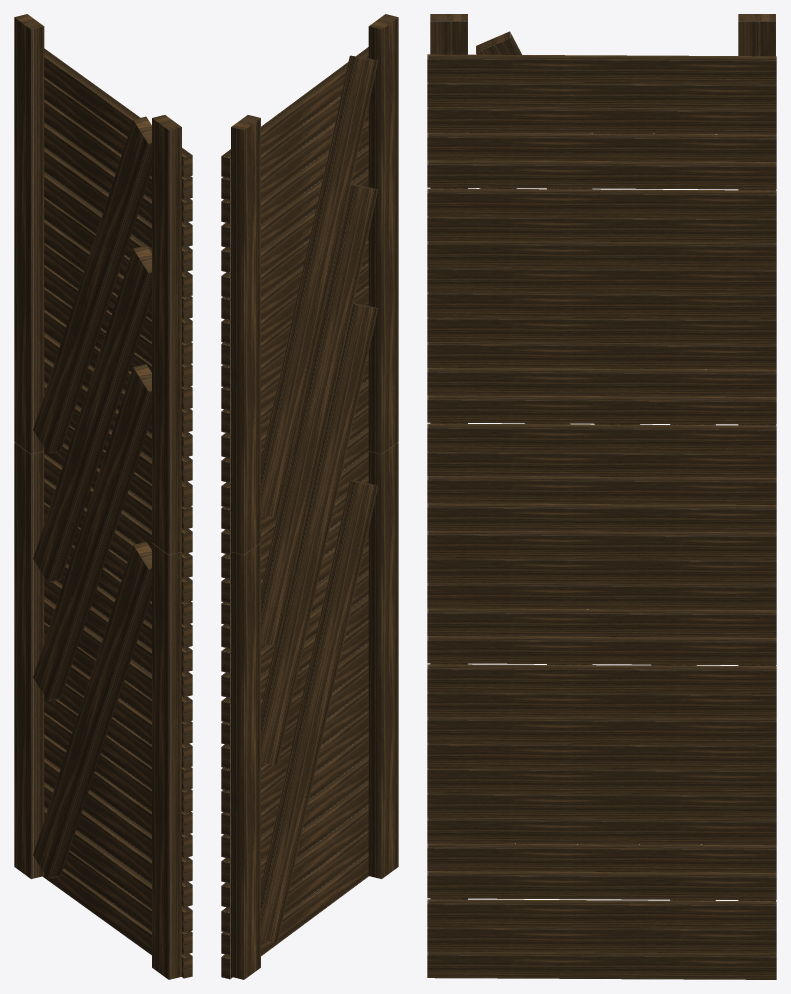
The model's file is model_draw_bridge.fbx.
3 views of the same model, side by side, from view 1: azimuth 30°, elevation 25°; view 2: azimuth 150°, elevation 25°; view 3: azimuth 270°, elevation 25° (orthographic). The views are drawn at different scales.
Visible parts, largest first — view 1: pCube34, pCube35, pCube14, pCube13, pCube56, pCube15, pCube36, pCube57, pCube46, pCube24, pCube22, pCube20 (+31 smaller); view 2: pCube36, pCube15, pCube56, pCube34, pCube14, pCube13, pCube35, pCube57, pCube46, pCube24, pCube22, pCube23 (+31 smaller); view 3: pCube20, pCube31, pCube46, pCube51, pCube22, pCube29, pCube43, pCube49, pCube42, pCube50, pCube41, pCube21 (+26 smaller).
Boxes of the visible parts, x1,y1,x2,y2 form: pCube34: (14,14,44,453); pCube35: (152,115,181,554); pCube14: (152,543,181,979); pCube13: (14,442,44,878); pCube56: (33,245,151,582); pCube15: (33,541,151,878); pCube36: (33,116,151,453); pCube57: (33,364,151,701); pCube46: (44,48,192,177); pCube24: (42,868,192,978); pCube22: (44,807,192,932); pCube20: (44,758,192,882); pCube36: (261,55,377,517); pCube15: (261,480,377,942); pCube56: (261,184,377,646); pCube34: (231,115,260,554); pCube14: (368,442,398,878); pCube13: (231,543,260,979); pCube35: (368,14,398,453); pCube57: (261,303,377,765); pCube46: (221,47,368,178); pCube24: (221,853,368,979); pCube22: (221,805,368,933); pCube23: (221,831,368,955); pCube20: (427,843,776,872); pCube31: (427,664,776,693); pCube46: (427,54,776,83); pCube51: (427,188,776,217); pCube22: (427,899,776,928); pCube29: (427,608,776,637); pCube43: (427,423,776,452); pCube49: (427,132,776,161); pCube42: (427,395,776,424); pCube50: (427,160,776,189); pCube41: (427,367,776,396); pCube21: (427,871,776,900).
Size of the model in its own units: 0.8101 by 29.4 by 9.77.
